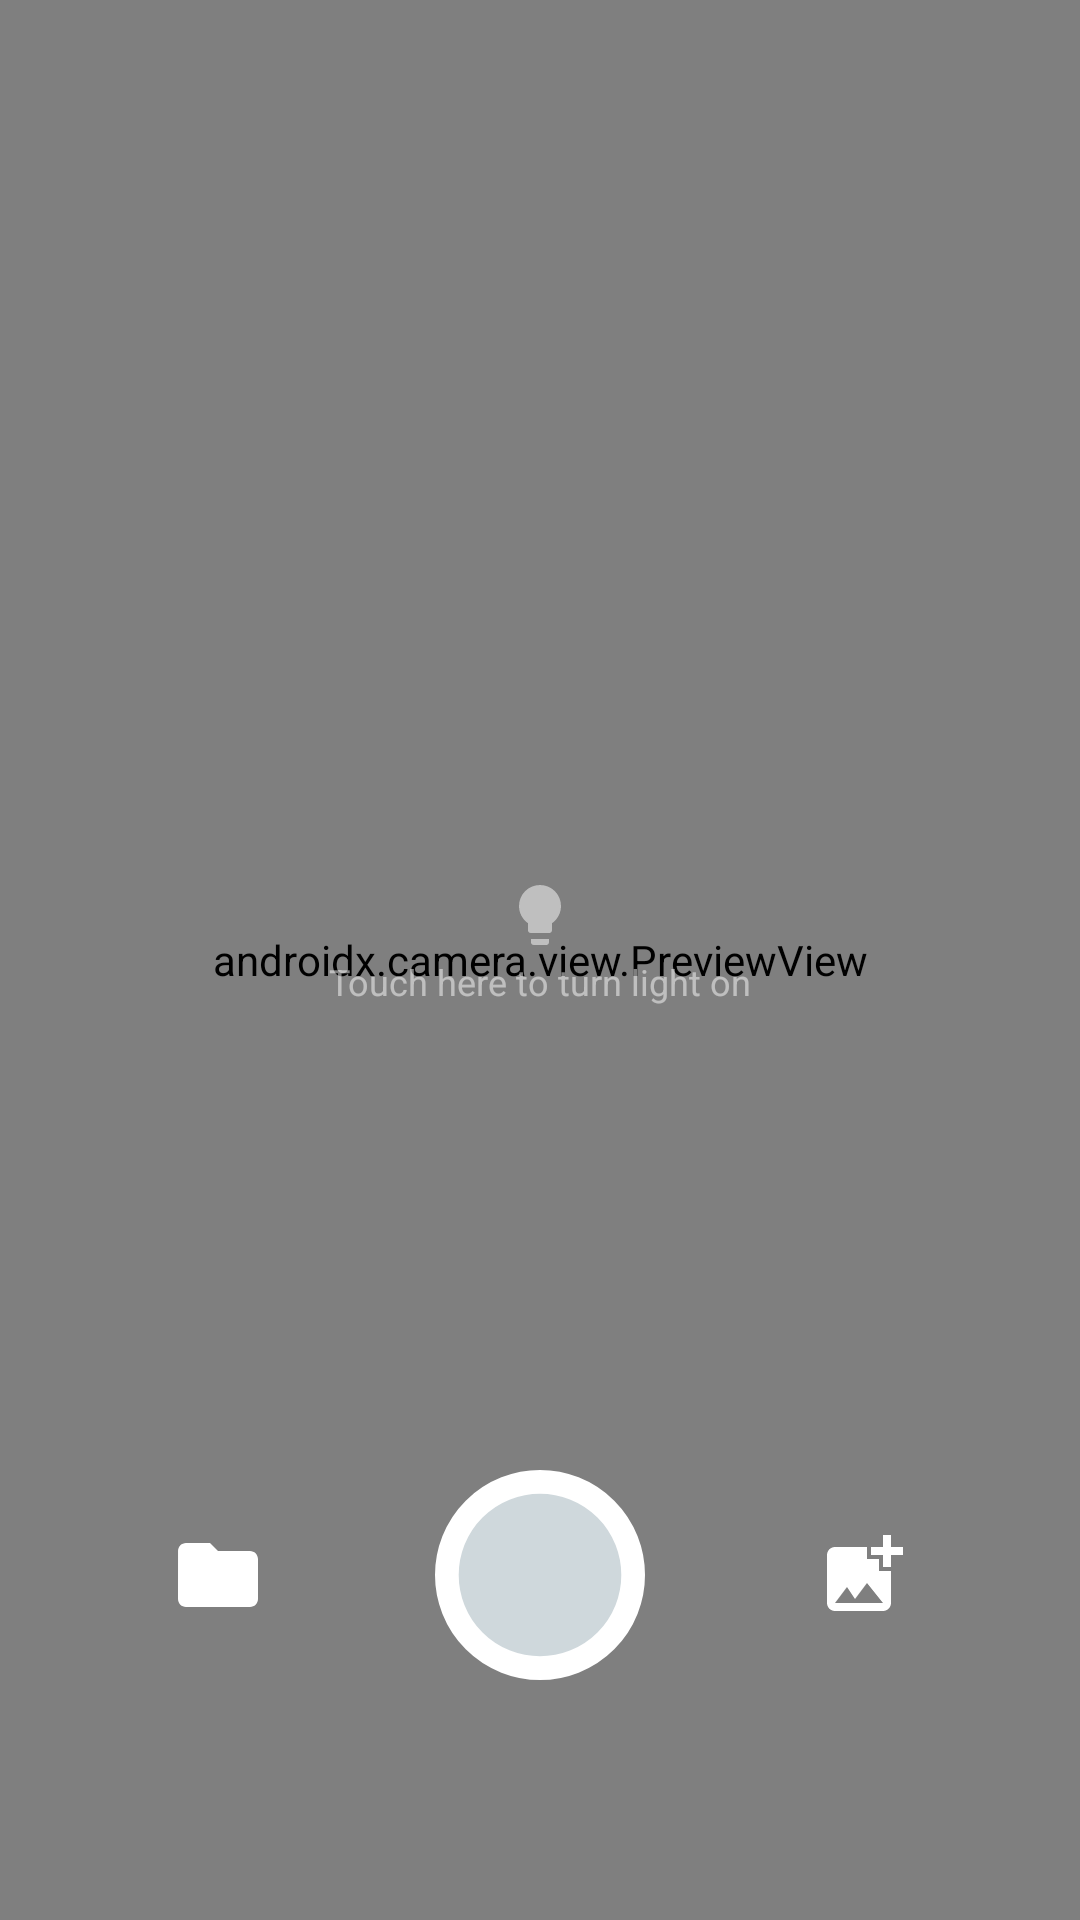

Screen size 1080 x 1920. Icon name, then its box in pixels as {"x1": x1, "y1": y1, "x2": x2, "y2": y2}:
add photo: {"x1": 827, "y1": 1535, "x2": 903, "y2": 1611}
folder: {"x1": 178, "y1": 1543, "x2": 258, "y2": 1607}
lightbulb: {"x1": 519, "y1": 885, "x2": 566, "y2": 950}
